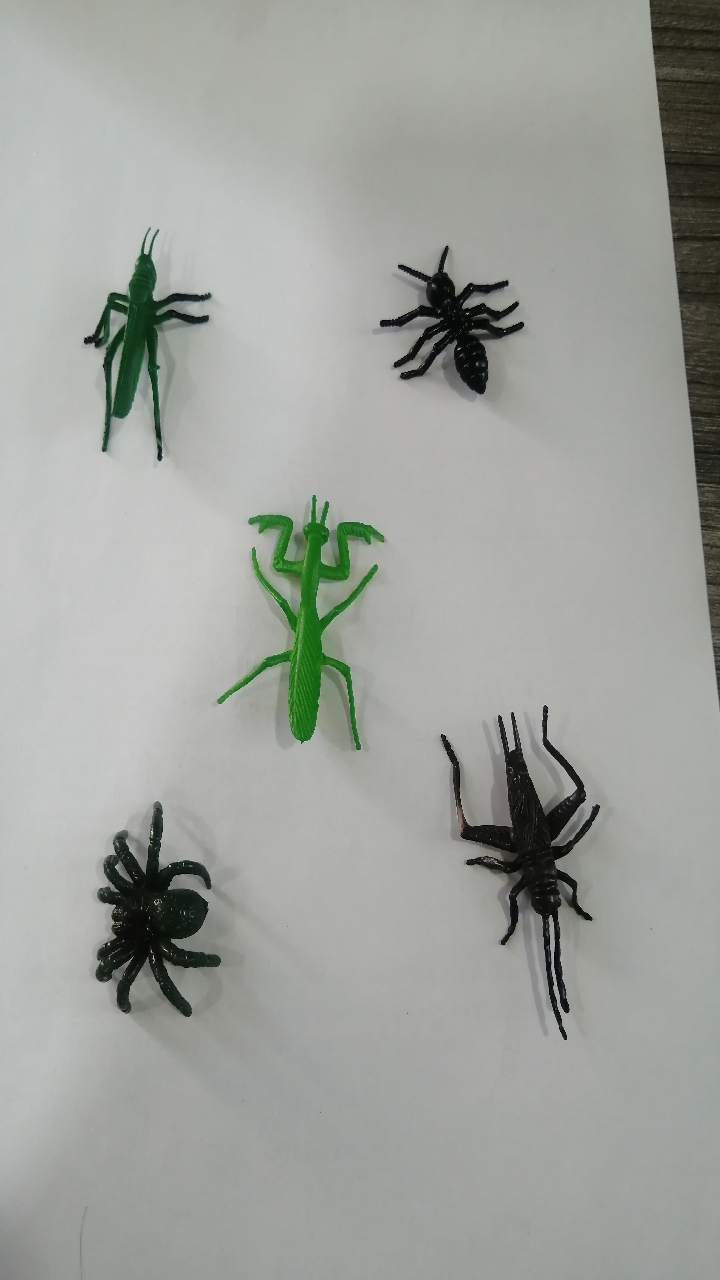intruso: (412, 688, 617, 1074), (46, 772, 261, 1063), (221, 466, 395, 791), (51, 191, 221, 485), (357, 203, 538, 422)
